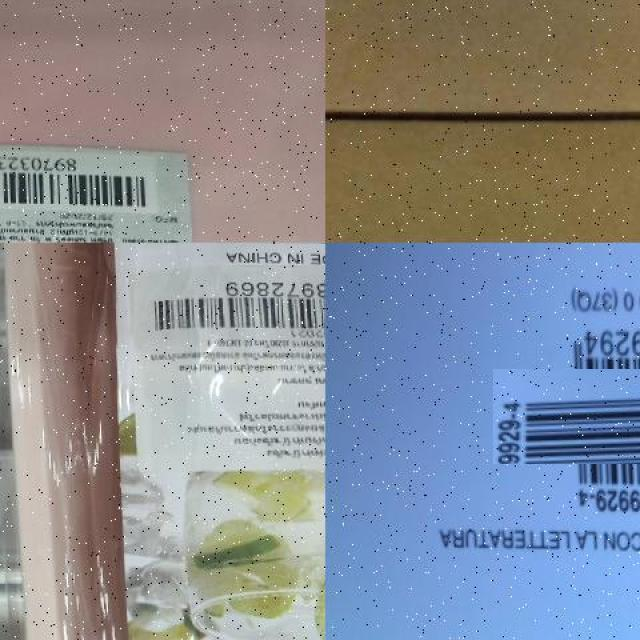Barcode: (518, 342, 640, 490), (142, 280, 326, 335), (0, 148, 153, 210)
